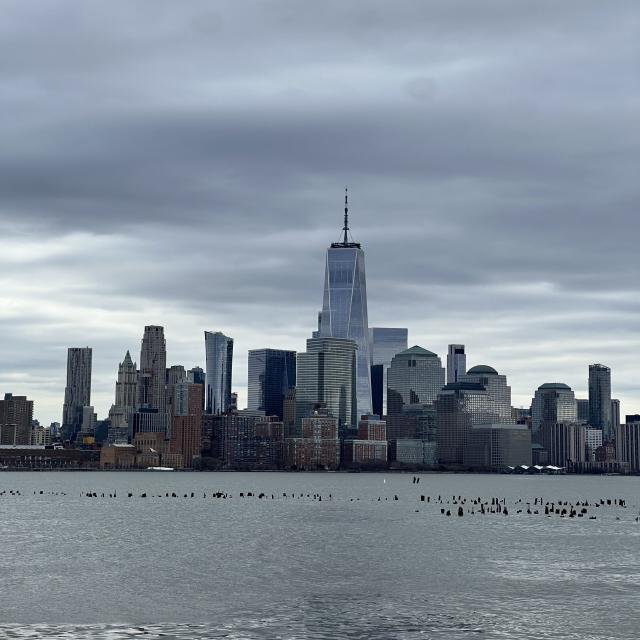WTC: (321, 184, 368, 339)
